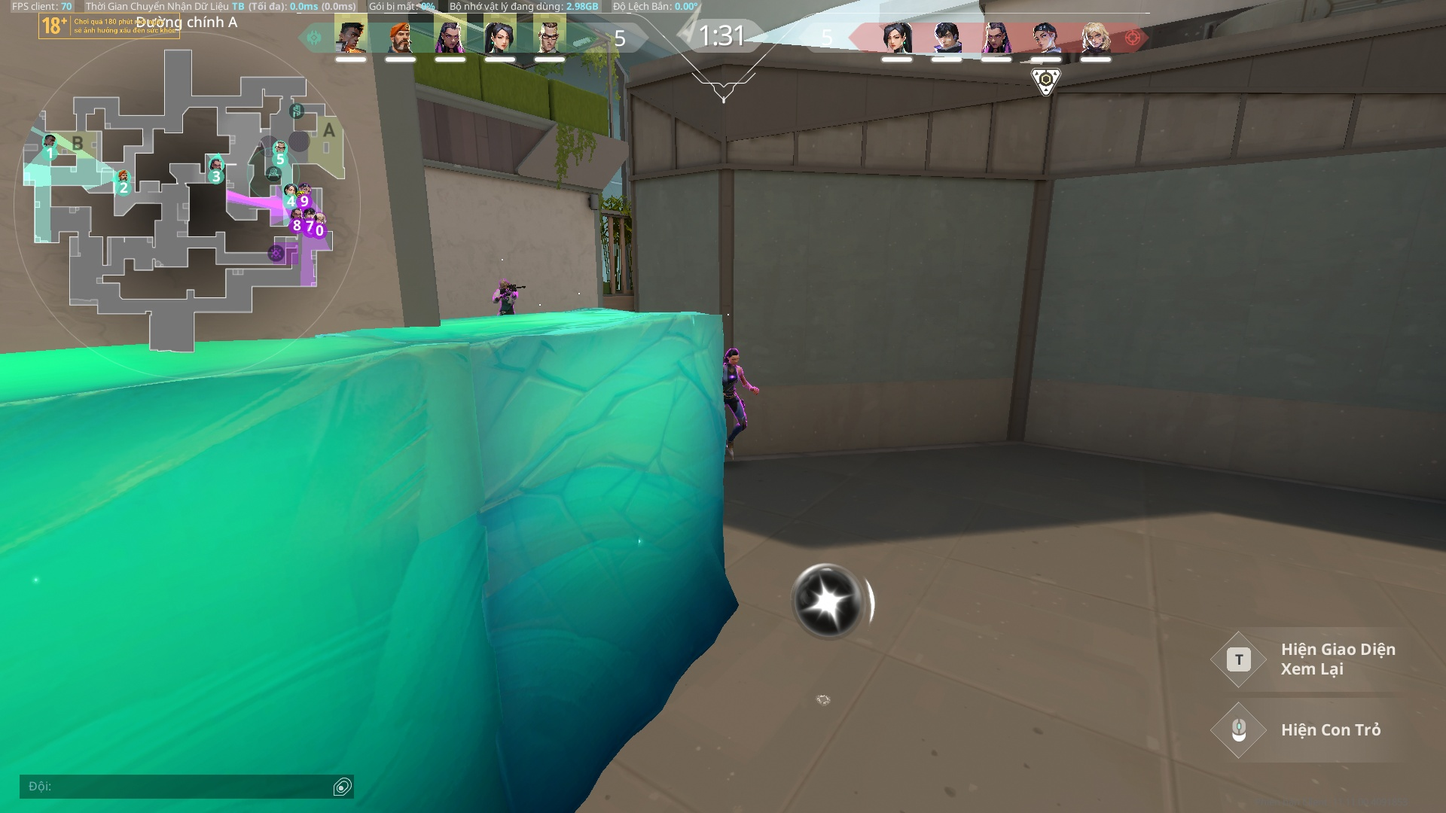body: (723, 362, 743, 395), (498, 287, 518, 308)
head: (725, 345, 742, 364), (496, 278, 508, 291)
